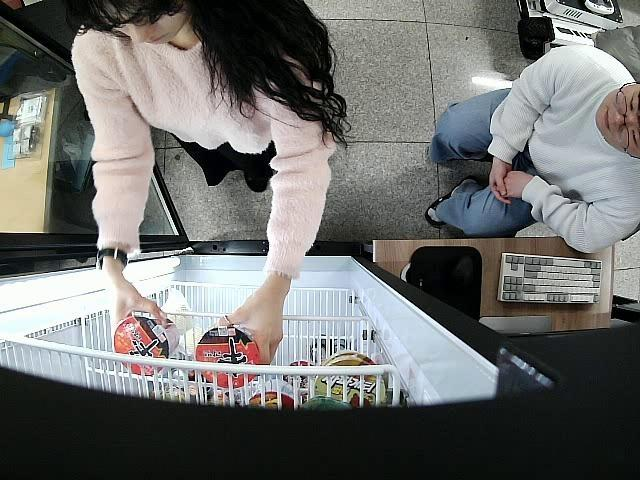02_shinRamen_S: (113, 316, 180, 377), (195, 329, 258, 388)
